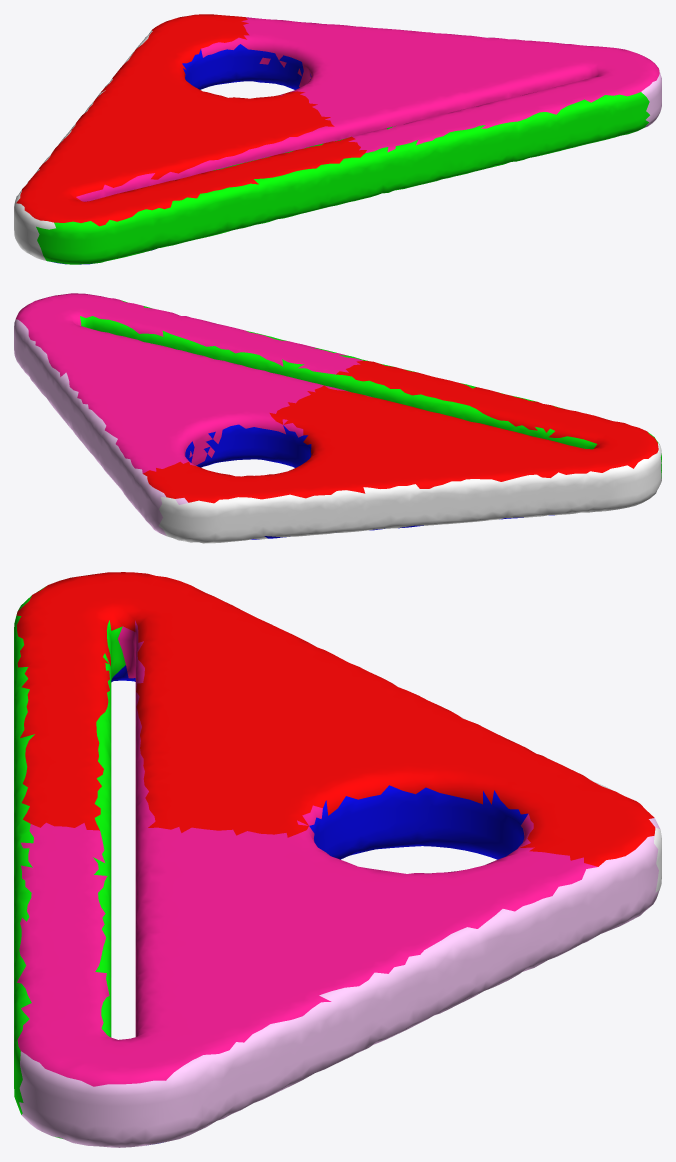
File: model_15575_segmented.obj
3 renders of one model, top to bottom at view 1: azimuth 30°, elevation 25°; view 2: azimuth 150°, elevation 25°; view 3: azimuth 270°, elevation 25°, orthographic. The views are drawn at different scales.
Size of the model in its own units: 74.99 by 5.03 by 40.
